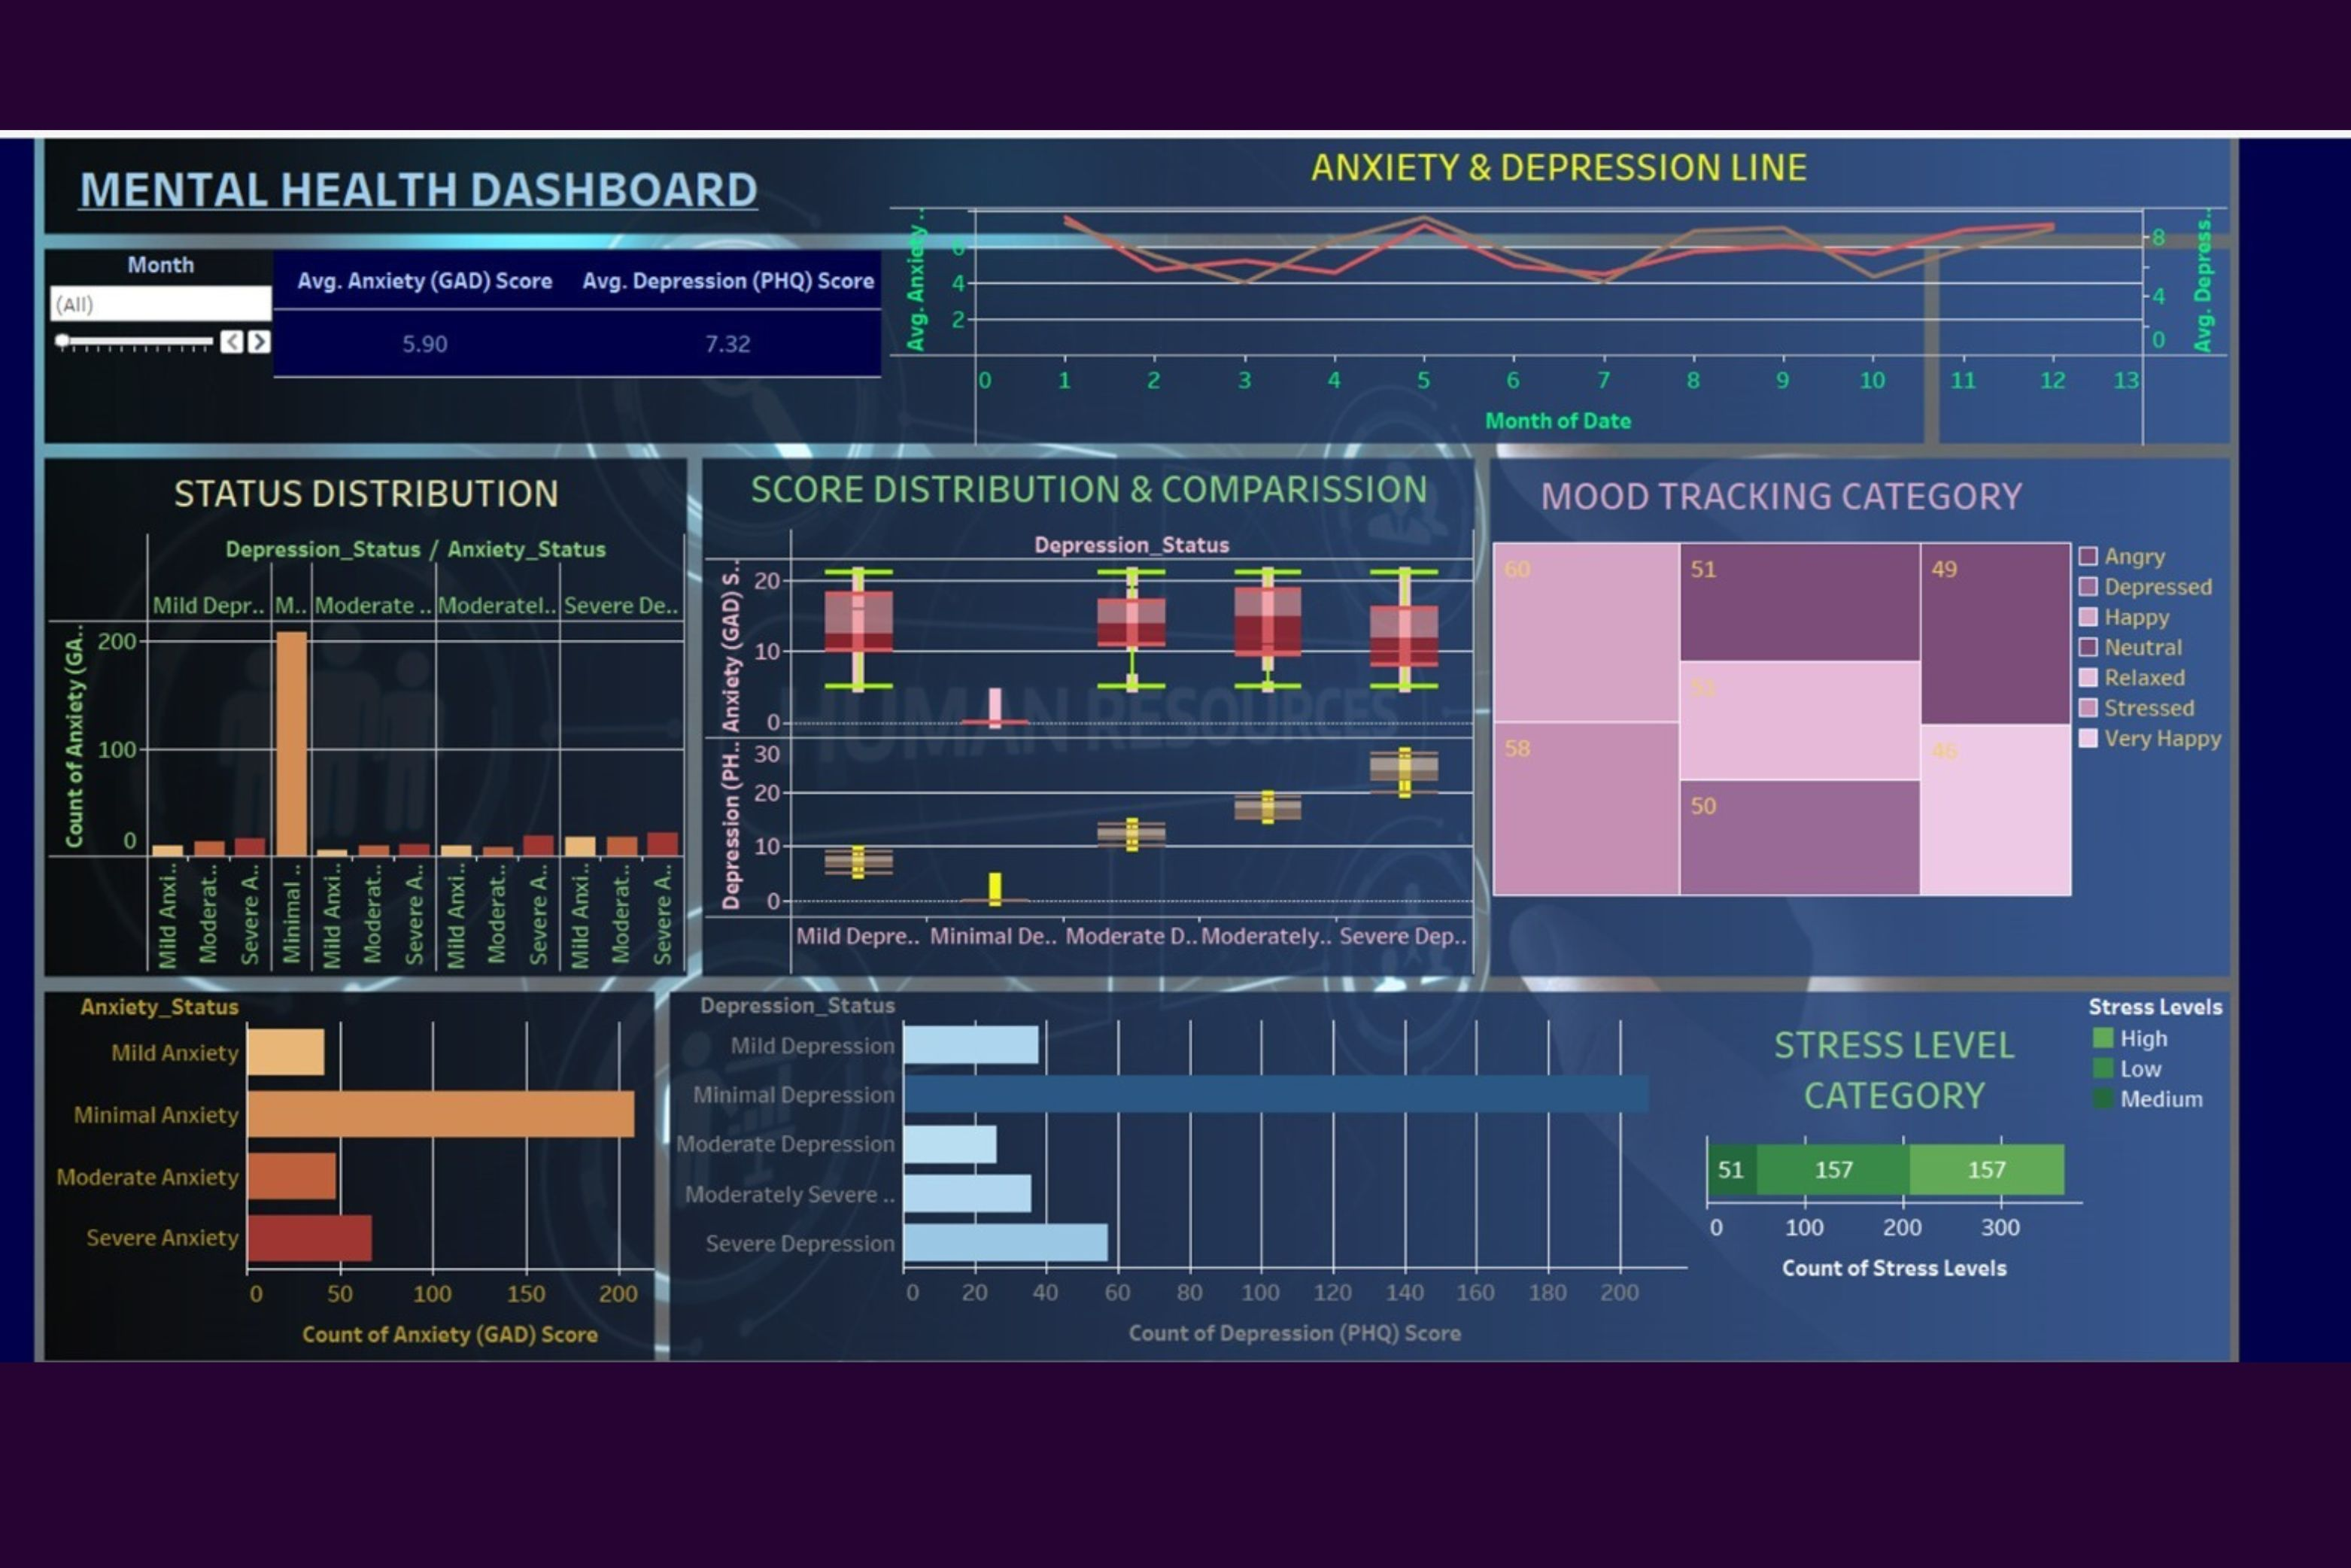

Layout of this report page (visuals, bound fields, positions):
{"tool":"tableau","page":{"name":"Mental Health Dash","canvas":[1657,851],"ordinal":0},"visuals":[{"type":"text","box":[45,4,517,59]},{"type":"filter","title":"Avg_Anxiety&Depression","param":"[federated.15c5uck0ce84fr18ztzqn0v0baqh].[mn:Date:ok]","box":[45,77,160,86]},{"type":"worksheet","title":"Avg_Anxiety&Depression","mark":"Automatic","box":[203,78,421,88]},{"type":"worksheet","title":"Score Distribution & Compare","mark":"Square","rows":["Anxiety (GAD) Score","Depression (PHQ) Score"],"cols":["Calculation_1276489032006443009"],"box":[502,221,533,359]},{"type":"worksheet","title":"Status Distribution","mark":"Bar","rows":["Anxiety (GAD) Score"],"cols":["Calculation_1276489032006443009","Calculation_1276489032001036288"],"box":[47,224,441,354]},{"type":"worksheet","title":"Mood Tracking Cat","mark":"Automatic","box":[1044,226,408,356]},{"type":"legend","title":"Mood Tracking Cat","param":"[federated.15c5uck0ce84fr18ztzqn0v0baqh].[none:Mood Tracking:nk]","box":[1450,279,113,169]},{"type":"worksheet","title":"Depression Status","mark":"Bar","rows":["Calculation_1276489032006443009"],"cols":["Depression (PHQ) Score"],"box":[479,591,704,254]},{"type":"legend","title":"Stress Level Cat","param":"[federated.15c5uck0ce84fr18ztzqn0v0baqh].[none:Stress Levels:nk]","box":[1461,591,98,87]},{"type":"worksheet","title":"Anxiety Status","mark":"Automatic","rows":["Calculation_1276489032001036288"],"cols":["Anxiety (GAD) Score"],"box":[44,592,423,254]},{"type":"worksheet","title":"Stress Level Cat","mark":"Bar","cols":["Stress Levels"],"box":[1196,606,261,194]}]}

Visuals, with their boxes in screenshot pixels (x1, y1, x2, y2):
text: BBox(35, 128, 785, 214)
"Avg_Anxiety&Depression" filter: BBox(35, 234, 267, 359)
"Avg_Anxiety&Depression" worksheet: BBox(264, 236, 875, 363)
"Score Distribution & Compare" worksheet (Square marks): BBox(697, 443, 1471, 964)
"Status Distribution" worksheet (Bar marks): BBox(38, 448, 677, 961)
"Mood Tracking Cat" worksheet: BBox(1484, 451, 2076, 967)
"Mood Tracking Cat" legend: BBox(2073, 527, 2237, 773)
"Depression Status" worksheet (Bar marks): BBox(664, 980, 1685, 1348)
"Stress Level Cat" legend: BBox(2088, 980, 2231, 1106)
"Anxiety Status" worksheet: BBox(33, 981, 647, 1350)
"Stress Level Cat" worksheet (Bar marks): BBox(1704, 1001, 2083, 1283)
